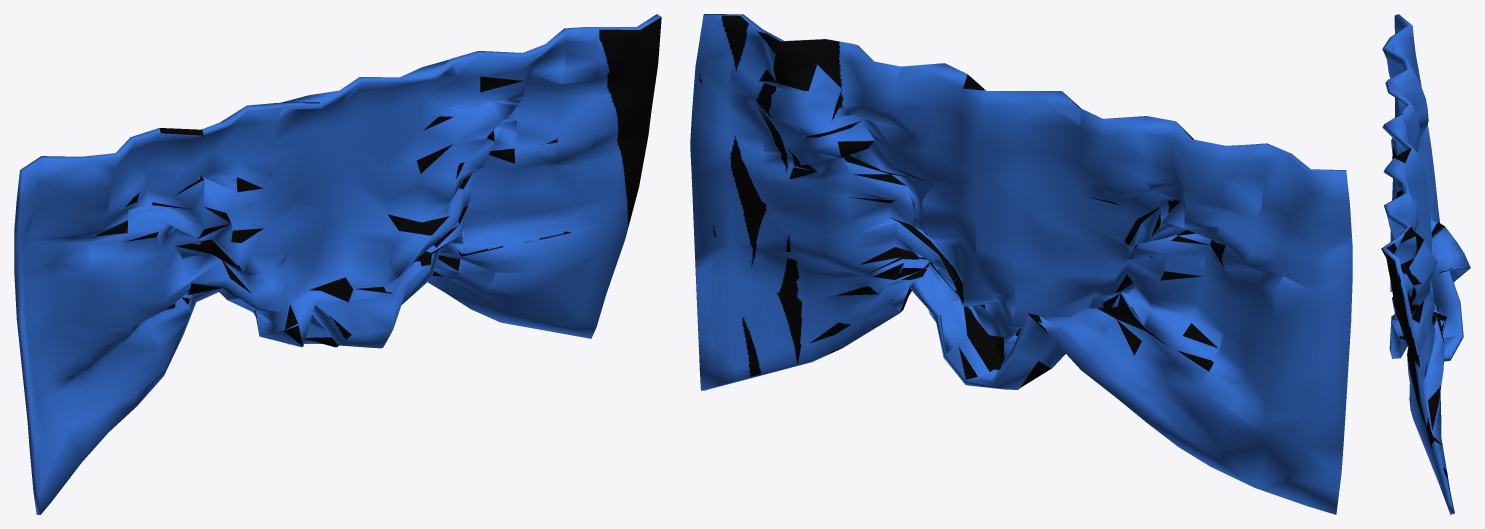
The model's file is Atalanta_Capa.fbx.
The picture shows the model from 3 angles, left to right: view 1: azimuth 30°, elevation 25°; view 2: azimuth 150°, elevation 25°; view 3: azimuth 270°, elevation 25°; orthographic projection. The views are drawn at different scales.
Parts seen in each view (by area): view 1: Atalanta_Capa; view 2: Atalanta_Capa; view 3: Atalanta_Capa.
Boxes of the visible parts, box(x1,y1,x2,y2) form: Atalanta_Capa: box(14, 14, 661, 514); Atalanta_Capa: box(690, 14, 1352, 514); Atalanta_Capa: box(1381, 14, 1470, 514).
Bounding box in the file's own units: 3.81 × 1.96 × 0.5803.
